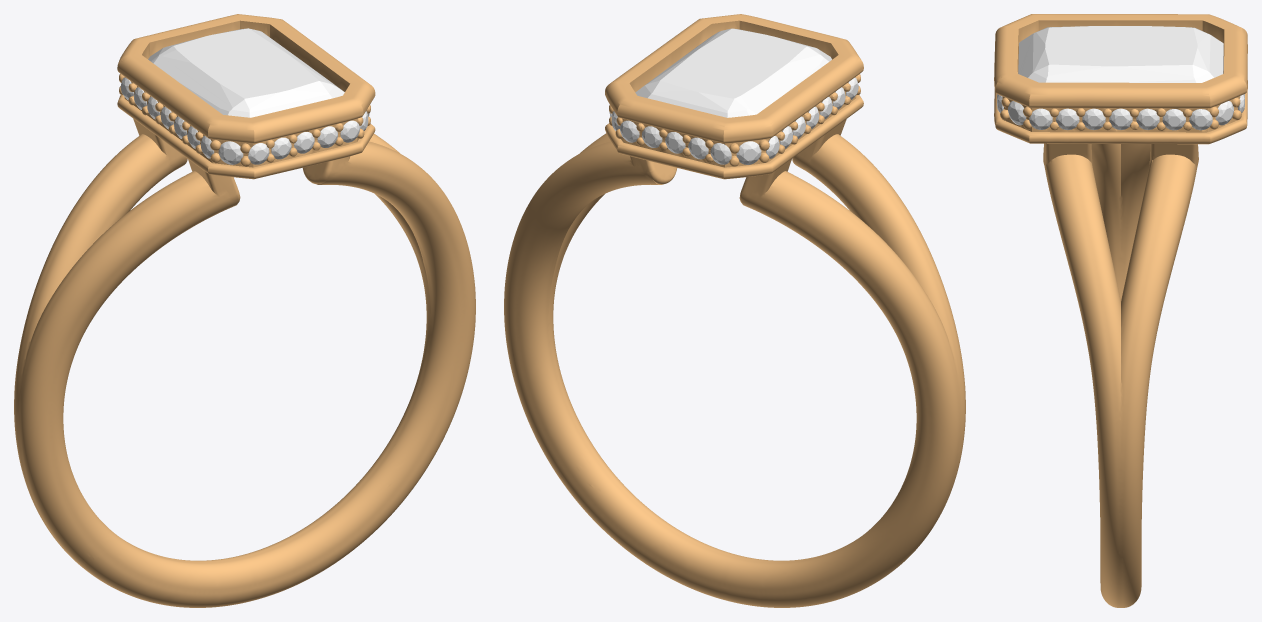
3 views of the same model, side by side, from view 1: azimuth 30°, elevation 25°; view 2: azimuth 150°, elevation 25°; view 3: azimuth 270°, elevation 25° (orthographic).
Bounding box in the file's own units: 2.52 × 2.85 × 1.22.
